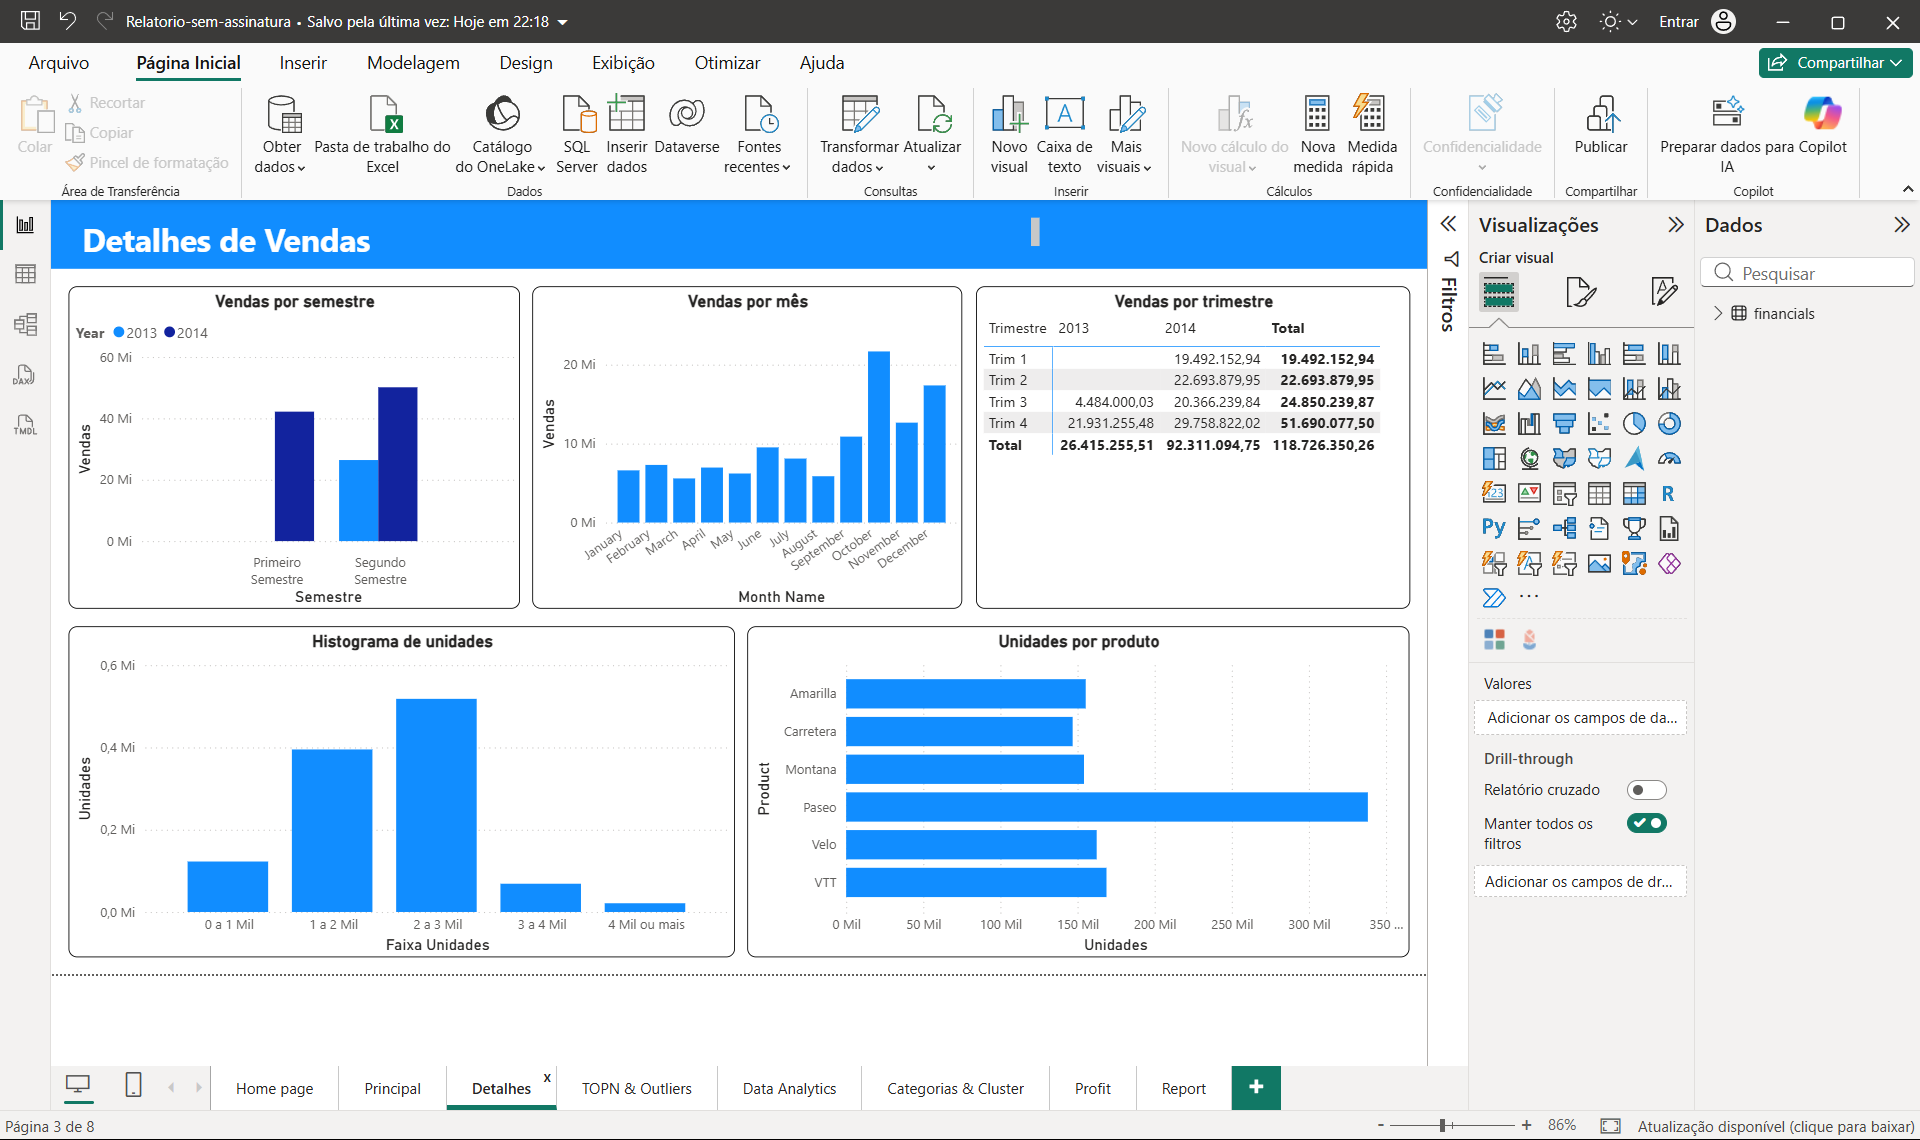

The page's visual inventory and layout, read from the dashboard file:
{"tool":"powerbi","page":{"name":"Detalhes","canvas":[1280,720],"ordinal":2},"visuals":[{"type":"shape","box":[0,0,1280,64],"z":0},{"type":"textbox","box":[24,12,900,42],"z":5},{"type":"clusteredColumnChart","title":"Vendas por semestre","fields":{"Category":["financials.Semestre"],"Series":["financials.Year"],"Y":["financials.Vendas"]},"box":[16,80,420,300],"z":1000},{"type":"clusteredColumnChart","title":"Vendas por mês","fields":{"Category":["financials.Month Name"],"Y":["financials.Vendas"]},"box":[448,80,400,300],"z":1000},{"type":"pivotTable","title":"Vendas por trimestre","fields":{"Columns":["financials.Year"],"Rows":["financials.Trimestre"],"Values":["financials.Vendas"]},"box":[860,80,404,300],"z":1000},{"type":"clusteredColumnChart","title":"Histograma de unidades","fields":{"Category":["financials.Faixa Unidades"],"Y":["financials.Unidades"]},"box":[16,396,620,308],"z":1000},{"type":"clusteredBarChart","title":"Unidades por produto","fields":{"Category":["financials.Product"],"Y":["financials.Unidades"]},"box":[648,396,616,308],"z":1000}]}

Visuals, with their boxes on the page's 1280x720 design canvas (x1, y1, x2, y2). These are canvas units, not pixel positions in the 1920x1140 screenshot, which may show the page scaled, cropped or inside an application window:
shape: [left=0, top=0, right=1280, bottom=64]
textbox: [left=24, top=12, right=924, bottom=54]
"Vendas por semestre" clusteredColumnChart: [left=16, top=80, right=436, bottom=380]
"Vendas por mês" clusteredColumnChart: [left=448, top=80, right=848, bottom=380]
"Vendas por trimestre" pivotTable: [left=860, top=80, right=1264, bottom=380]
"Histograma de unidades" clusteredColumnChart: [left=16, top=396, right=636, bottom=704]
"Unidades por produto" clusteredBarChart: [left=648, top=396, right=1264, bottom=704]
